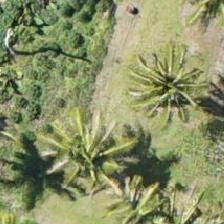coconut_tree: (125, 39, 215, 129), (46, 112, 136, 202), (89, 151, 179, 223)
